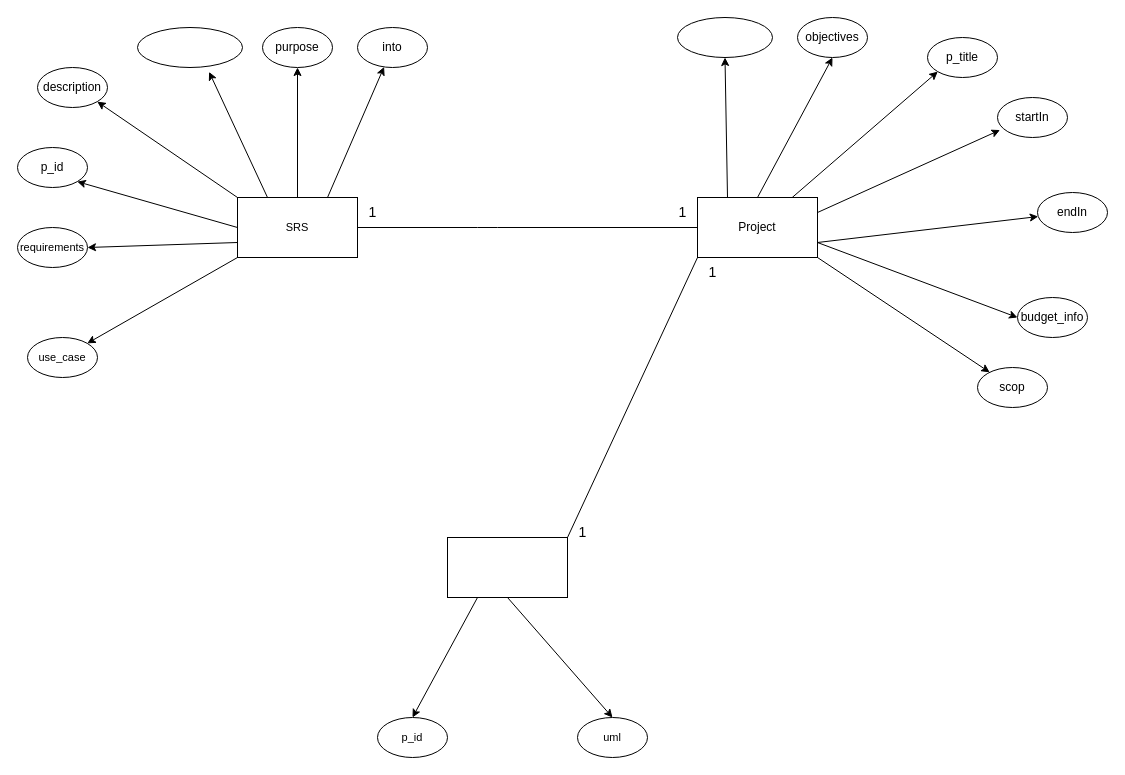
Some shapes in this 1125 by 775 pixel diagram are drawn without their labels. The shapes that lost their labels are listed below. From the top down, each one's box as (x1, y1, x2, y2) in pixels, then its label:
(136, 26, 242, 68): intended_audience
(676, 16, 772, 58): project_manaher
(446, 536, 568, 598): SDD
